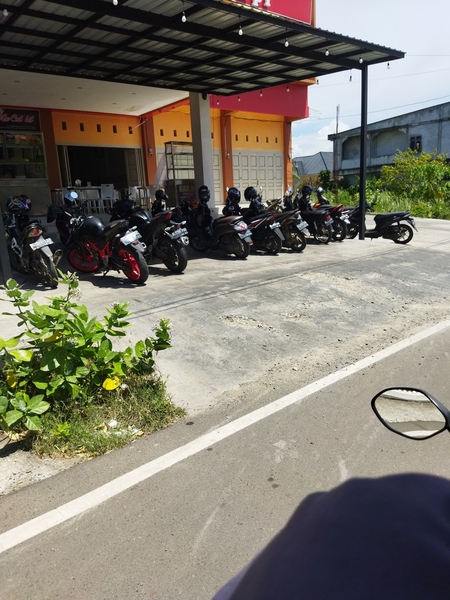motorcycle: (47, 192, 151, 291), (109, 190, 193, 278), (1, 194, 63, 293), (185, 192, 255, 267), (344, 198, 416, 248)
